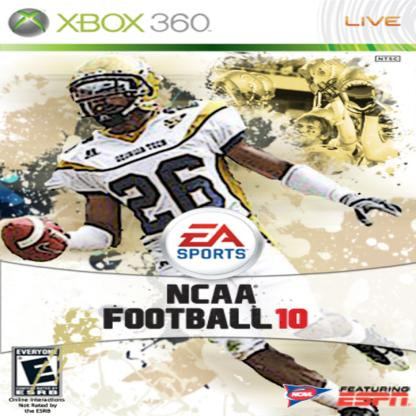Helmet: (67, 62, 161, 128)
